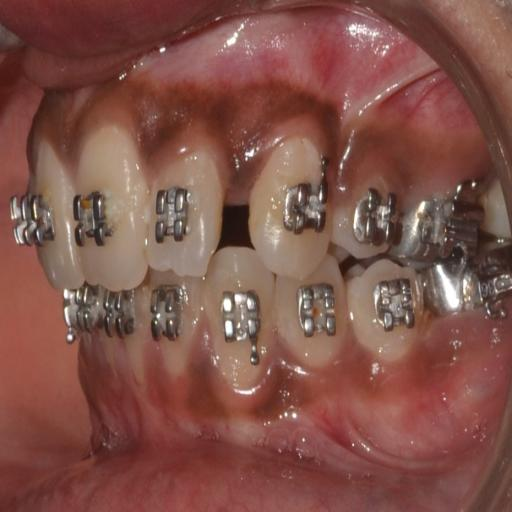correct_brace: (334, 179, 400, 263), (283, 146, 331, 239), (364, 274, 420, 338), (69, 186, 117, 252), (150, 181, 195, 246)
incorrect_brace: (144, 141, 221, 282), (351, 184, 400, 250)
